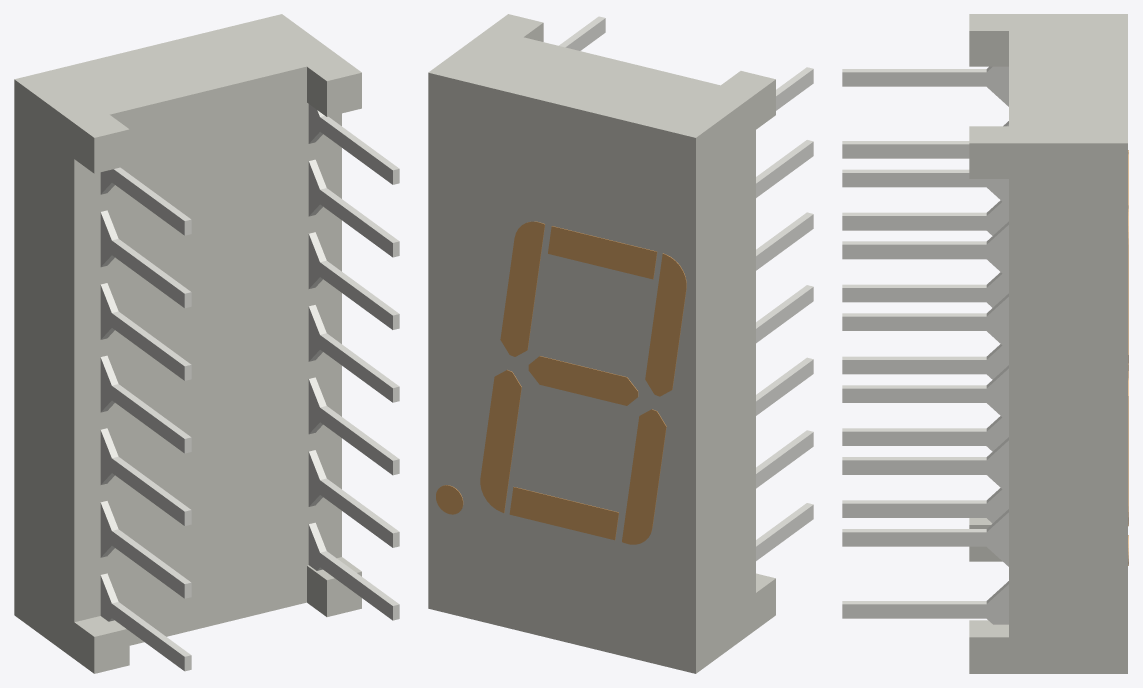
The model's file is MAN3620A.glb.
3 views of the same model, side by side, from view 1: azimuth 30°, elevation 25°; view 2: azimuth 150°, elevation 25°; view 3: azimuth 270°, elevation 25° (orthographic).
Visible parts, largest first — view 1: Shape_IndexedFaceSet.010, Shape_IndexedFaceSet.006, Shape_IndexedFaceSet, Shape_IndexedFaceSet.012, Shape_IndexedFaceSet.065, Shape_IndexedFaceSet.003, Shape_IndexedFaceSet.069, Shape_IndexedFaceSet.014, Shape_IndexedFaceSet.005, Shape_IndexedFaceSet.001, Shape_IndexedFaceSet.194, Shape_IndexedFaceSet.214 (+16 smaller); view 2: Shape_IndexedFaceSet.007, Shape_IndexedFaceSet.006, Shape_IndexedFaceSet, Shape_IndexedFaceSet.134, Shape_IndexedFaceSet.130, Shape_IndexedFaceSet.133, Shape_IndexedFaceSet.129, Shape_IndexedFaceSet.135, Shape_IndexedFaceSet.132, Shape_IndexedFaceSet.128, Shape_IndexedFaceSet.202, Shape_IndexedFaceSet.194 (+6 smaller); view 3: Shape_IndexedFaceSet.008, Shape_IndexedFaceSet, Shape_IndexedFaceSet.236, Shape_IndexedFaceSet.232, Shape_IndexedFaceSet.196, Shape_IndexedFaceSet.200, Shape_IndexedFaceSet.227, Shape_IndexedFaceSet.204, Shape_IndexedFaceSet.208, Shape_IndexedFaceSet.211, Shape_IndexedFaceSet.243, Shape_IndexedFaceSet.191 (+21 smaller).
Boxes of the visible parts, bbox=[...] form: Shape_IndexedFaceSet.010: bbox=[109, 102, 306, 608]; Shape_IndexedFaceSet.006: bbox=[14, 79, 94, 673]; Shape_IndexedFaceSet: bbox=[15, 14, 361, 137]; Shape_IndexedFaceSet.012: bbox=[74, 159, 109, 622]; Shape_IndexedFaceSet.065: bbox=[307, 103, 341, 565]; Shape_IndexedFaceSet.003: bbox=[110, 66, 306, 145]; Shape_IndexedFaceSet.069: bbox=[129, 565, 306, 645]; Shape_IndexedFaceSet.014: bbox=[94, 629, 129, 673]; Shape_IndexedFaceSet.005: bbox=[94, 129, 129, 173]; Shape_IndexedFaceSet.001: bbox=[327, 72, 361, 116]; Shape_IndexedFaceSet.194: bbox=[112, 604, 184, 670]; Shape_IndexedFaceSet.214: bbox=[112, 241, 184, 307]; Shape_IndexedFaceSet.007: bbox=[428, 72, 695, 673]; Shape_IndexedFaceSet.006: bbox=[696, 79, 775, 673]; Shape_IndexedFaceSet: bbox=[428, 14, 775, 137]; Shape_IndexedFaceSet.134: bbox=[645, 254, 686, 396]; Shape_IndexedFaceSet.130: bbox=[622, 409, 666, 544]; Shape_IndexedFaceSet.133: bbox=[480, 370, 521, 512]; Shape_IndexedFaceSet.129: bbox=[500, 221, 544, 356]; Shape_IndexedFaceSet.135: bbox=[548, 226, 656, 279]; Shape_IndexedFaceSet.132: bbox=[509, 487, 618, 540]; Shape_IndexedFaceSet.128: bbox=[528, 356, 637, 405]; Shape_IndexedFaceSet.202: bbox=[756, 287, 813, 343]; Shape_IndexedFaceSet.194: bbox=[756, 505, 813, 560]; Shape_IndexedFaceSet.008: bbox=[969, 143, 1127, 673]; Shape_IndexedFaceSet: bbox=[969, 14, 1127, 143]; Shape_IndexedFaceSet.236: bbox=[842, 244, 986, 259]; Shape_IndexedFaceSet.232: bbox=[842, 316, 986, 330]; Shape_IndexedFaceSet.196: bbox=[842, 503, 985, 517]; Shape_IndexedFaceSet.200: bbox=[842, 431, 986, 445]; Shape_IndexedFaceSet.227: bbox=[842, 388, 985, 402]; Shape_IndexedFaceSet.204: bbox=[842, 288, 986, 302]; Shape_IndexedFaceSet.208: bbox=[842, 360, 985, 374]; Shape_IndexedFaceSet.211: bbox=[842, 216, 986, 230]; Shape_IndexedFaceSet.243: bbox=[842, 460, 986, 474]; Shape_IndexedFaceSet.191: bbox=[842, 72, 986, 86].
Bounding box in the file's own units: 3.86 × 7.38 × 3.61.
